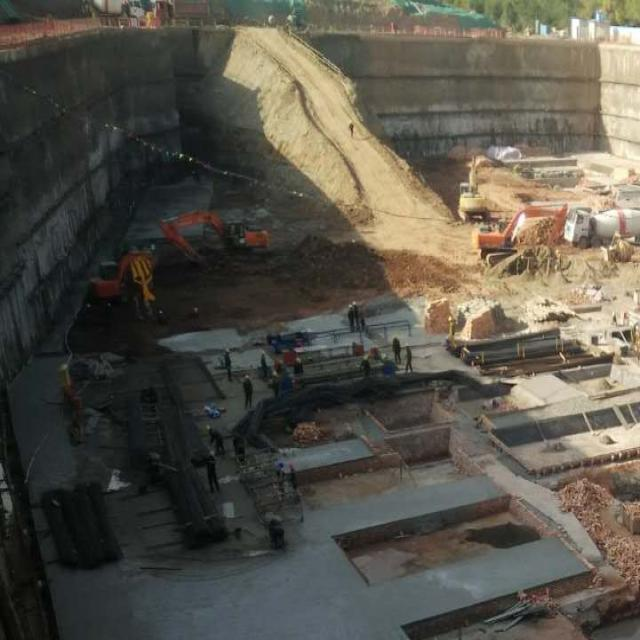excavator: (472, 203, 568, 266), (159, 207, 270, 261), (82, 249, 156, 325), (455, 151, 490, 224)
truck: (149, 0, 209, 28)
